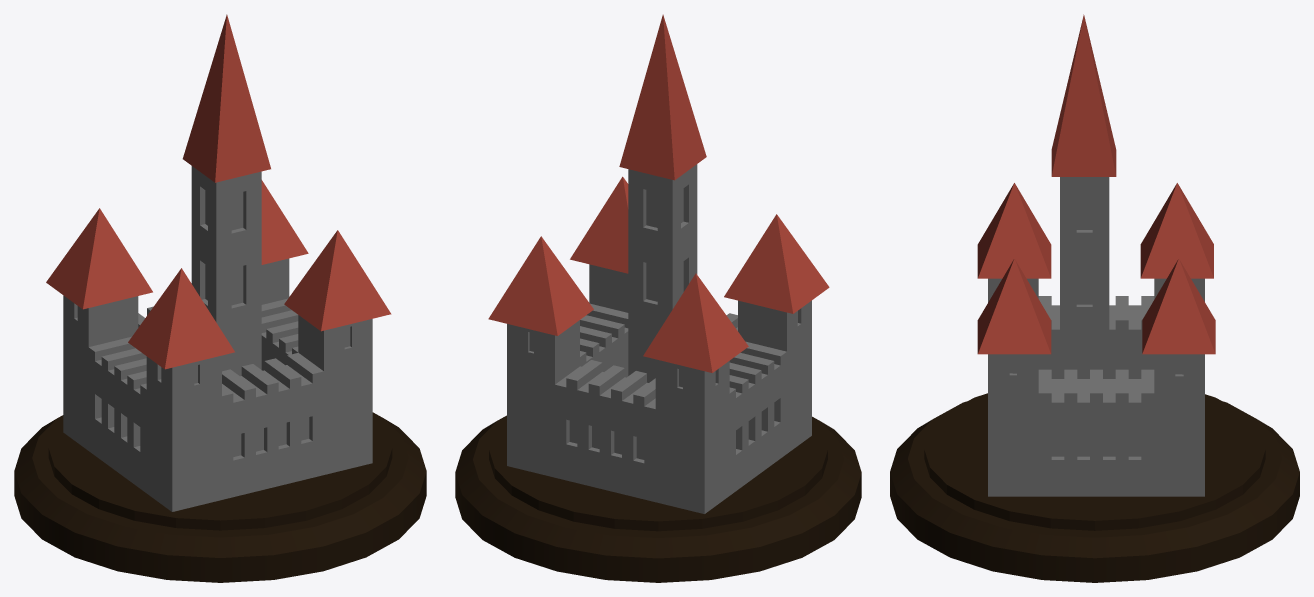
Rendered from Toulouse.fbx.
The picture shows the model from 3 angles, left to right: view 1: azimuth 30°, elevation 25°; view 2: azimuth 150°, elevation 25°; view 3: azimuth 270°, elevation 25°; orthographic projection.
Visible parts, largest first — view 1: Toulouse; view 2: Toulouse; view 3: Toulouse.
Boxes of the visible parts, x1,y1,x2,y2 form: Toulouse: (14, 14, 426, 582); Toulouse: (455, 14, 861, 582); Toulouse: (890, 14, 1299, 582).
Size of the model in its own units: 2.21 by 2.88 by 2.21.
